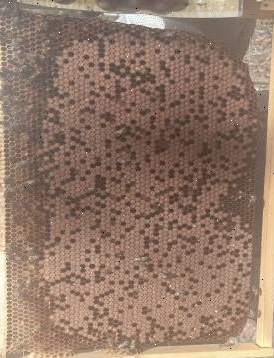cria: (35, 23, 260, 345)
